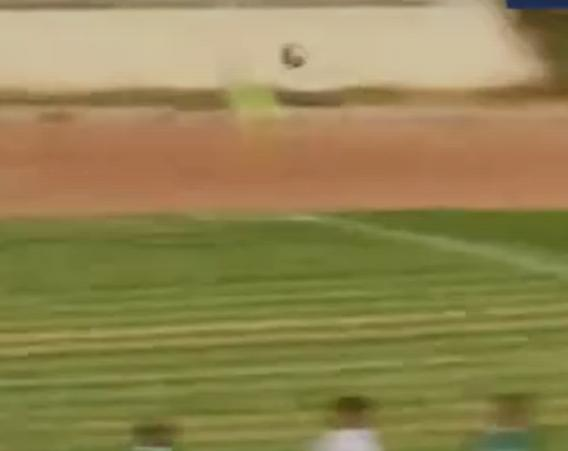ball: (274, 28, 319, 79)
